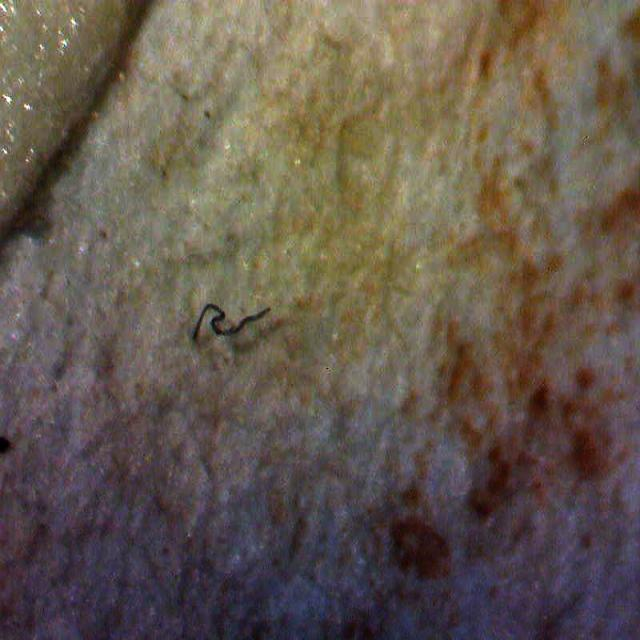microplastic: (191, 302, 271, 340)
